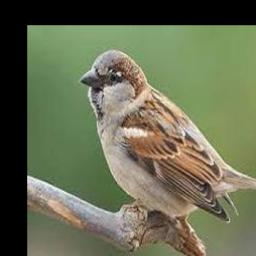Sparrow: (80, 50, 256, 224)
